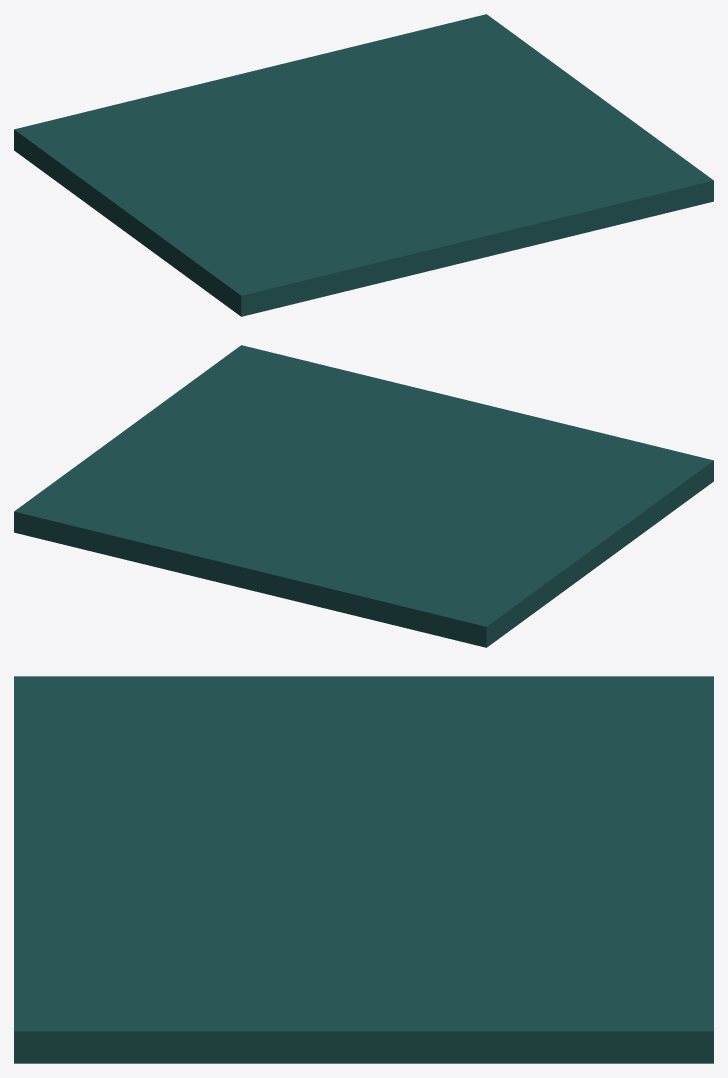
The model's file is Plinth.glb.
3 renders of one model, top to bottom at view 1: azimuth 30°, elevation 25°; view 2: azimuth 150°, elevation 25°; view 3: azimuth 270°, elevation 25°, orthographic. The views are drawn at different scales.
Parts seen in each view (by area): view 1: Diorama foundation; view 2: Diorama foundation; view 3: Diorama foundation.
Boxes of the visible parts, x1,y1,x2,y2 form: Diorama foundation: [14, 14, 713, 316]; Diorama foundation: [14, 345, 713, 647]; Diorama foundation: [14, 676, 713, 1063].
Bounding box in the file's own units: 12 × 0.51 × 10.
